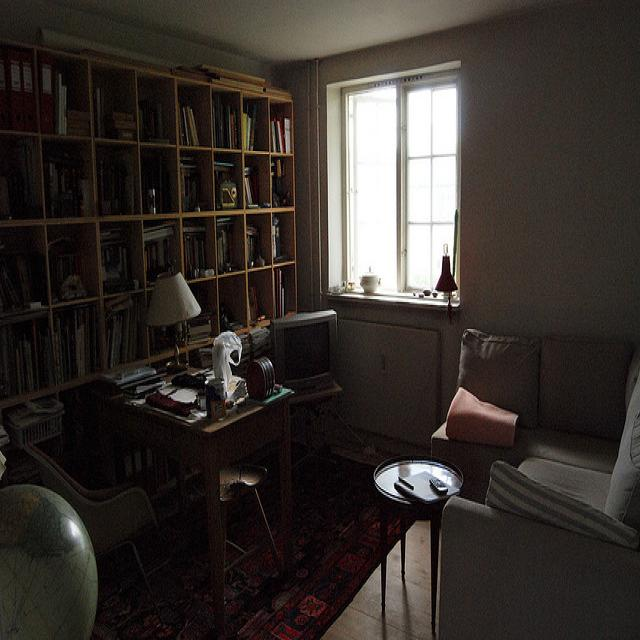Table: (122, 321, 312, 623), (380, 407, 466, 626)
chair: (449, 302, 640, 495), (6, 388, 154, 608)
